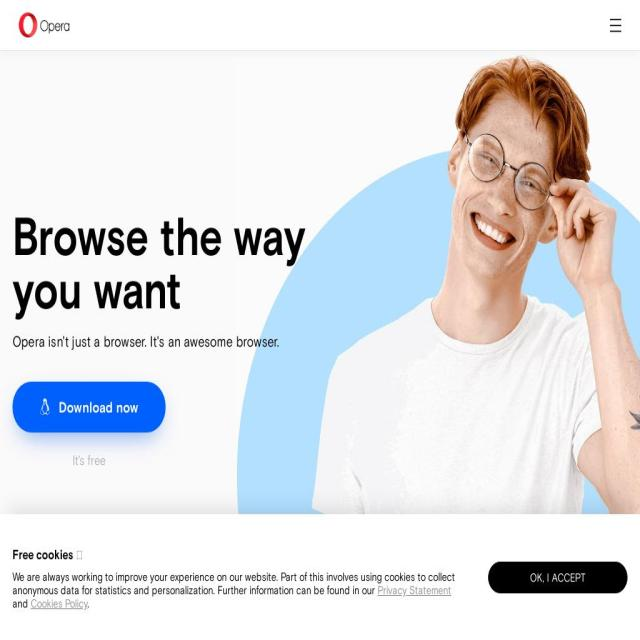button: (12, 381, 166, 432), (19, 12, 82, 38), (308, 591, 332, 624)
heading: (12, 208, 310, 316)
image: (235, 51, 640, 640), (19, 12, 69, 38), (312, 601, 328, 622)
label: (600, 5, 630, 45)
link: (378, 583, 452, 597), (31, 597, 88, 610)
text: (13, 570, 455, 597), (12, 332, 310, 350), (488, 561, 628, 593), (12, 452, 166, 468), (13, 546, 83, 562), (12, 597, 30, 610), (88, 597, 90, 610)
